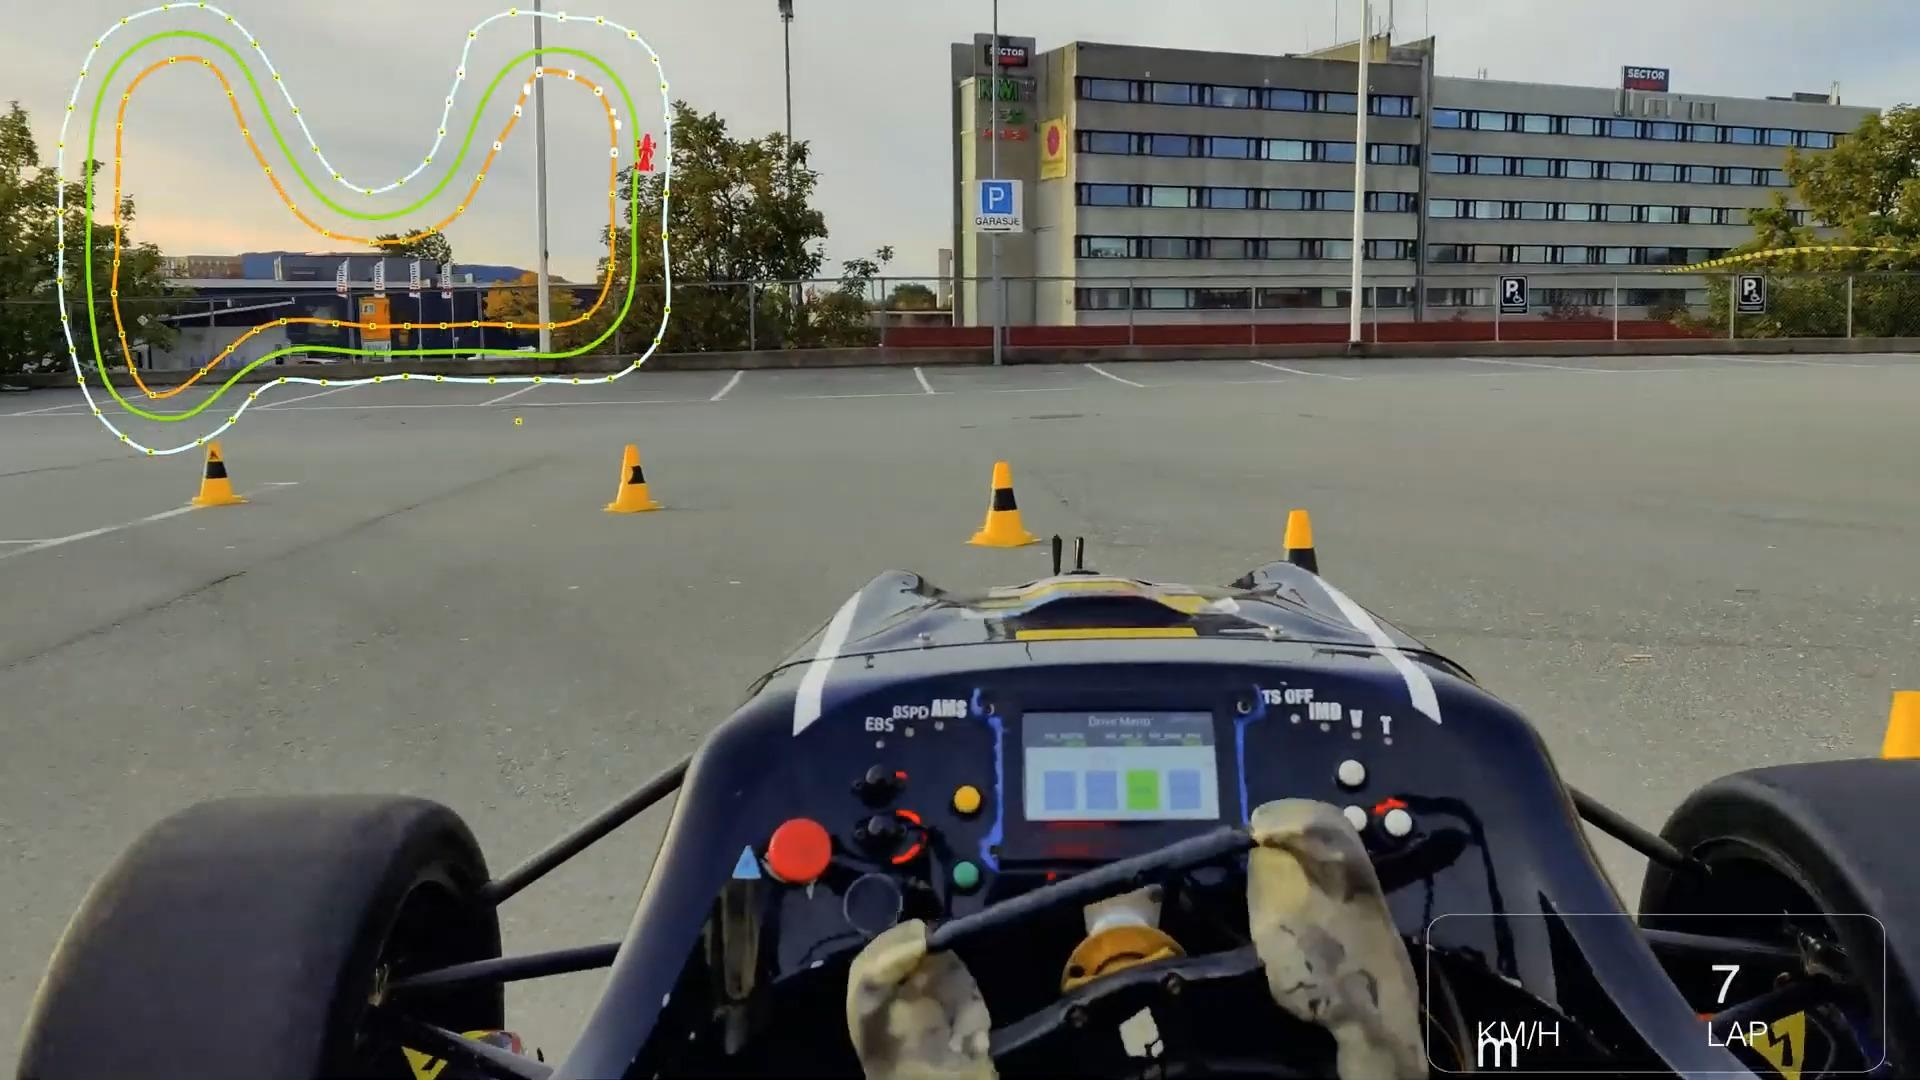yellow_cone: (571, 422, 678, 524), (1242, 501, 1344, 603), (953, 451, 1047, 549), (179, 436, 245, 512)
